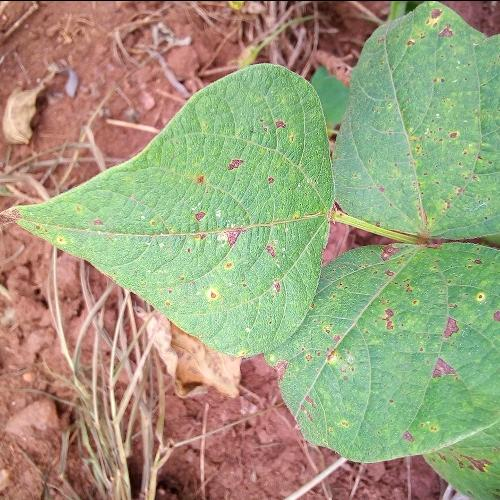hawar: (376, 266, 423, 335), (398, 0, 462, 43), (428, 308, 466, 378), (314, 328, 352, 370), (397, 409, 426, 452), (184, 192, 212, 224), (84, 204, 116, 231), (220, 148, 249, 177), (220, 214, 246, 246), (7, 196, 32, 229), (262, 110, 295, 131), (376, 240, 413, 258), (374, 176, 394, 207), (299, 386, 321, 414), (279, 347, 292, 381)
mozaik: (116, 123, 226, 276), (416, 64, 500, 222)
